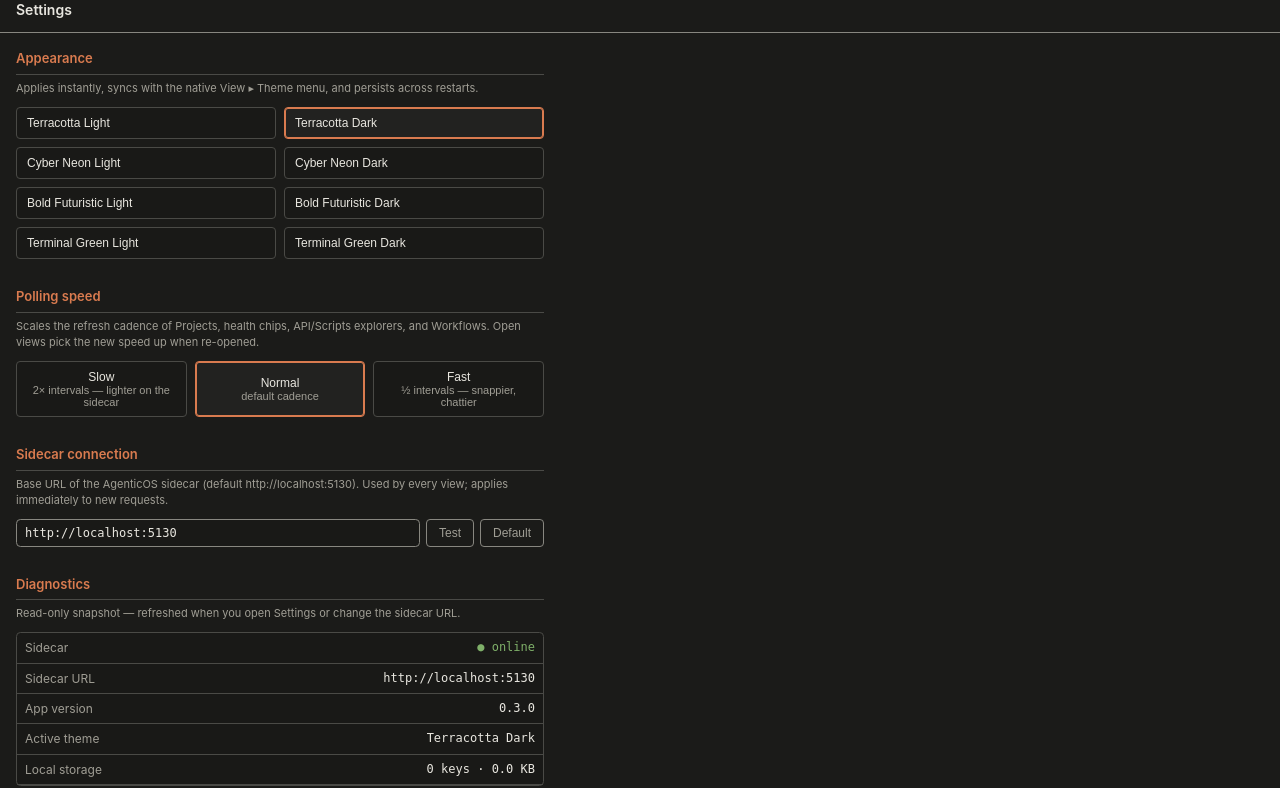
Scenario: EnvironmentPanel (Settings) › persists polling speed and shows the saved indicator
Step 1. Click the button with test id "polling-fast" → (459, 389), box [373,361,544,417]
(page scrolled)
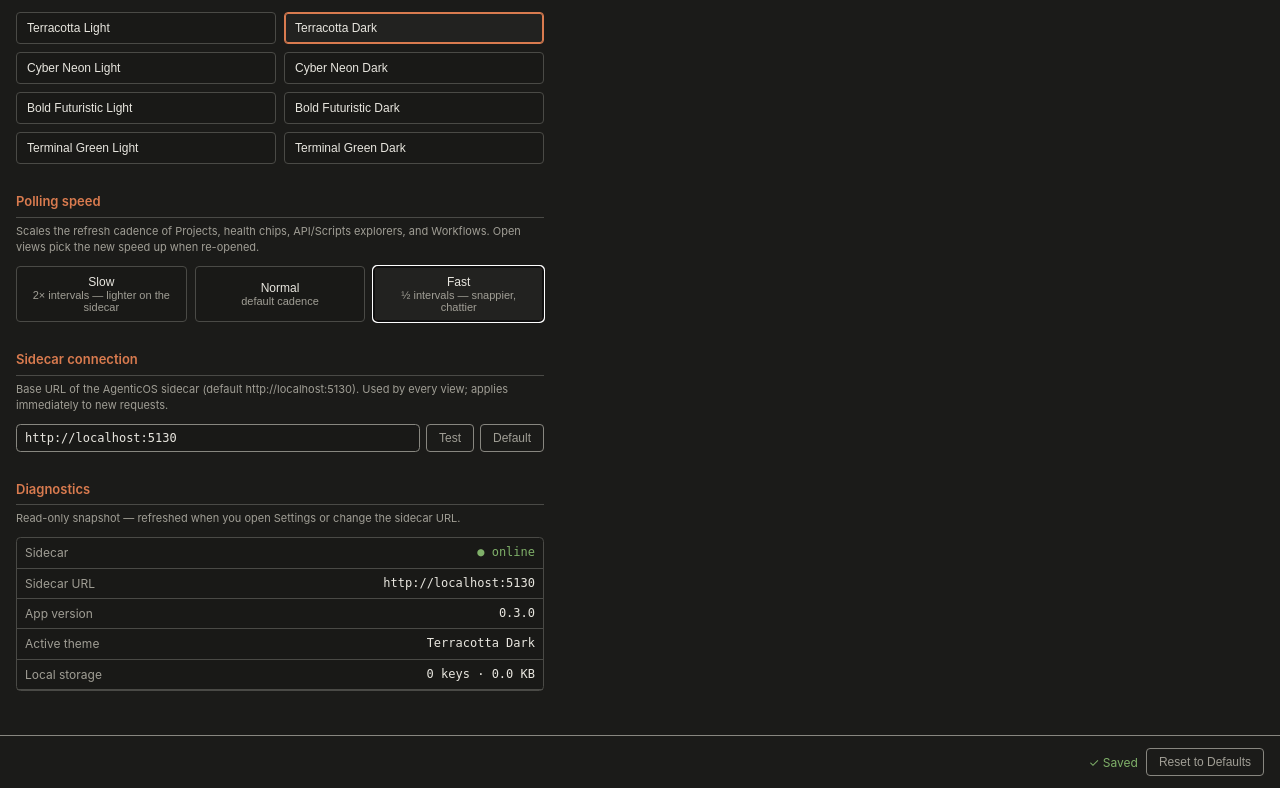
Check: the text "✓ Saved" is shown, box [1089,754,1138,771]
